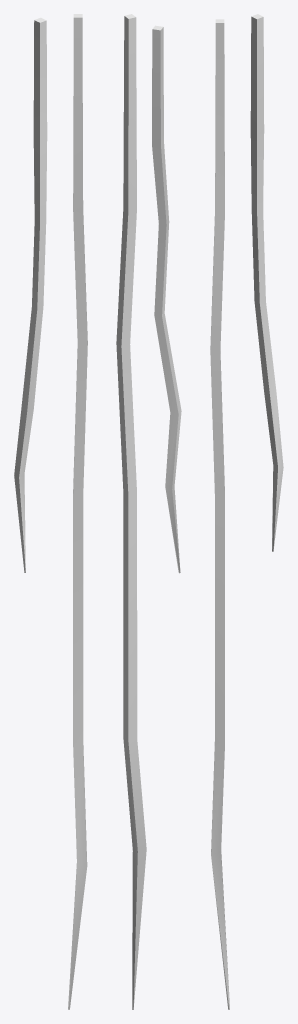
The model's file is SM_Tree_Vines_03.glb.
3 views of the same model, side by side, from view 1: azimuth 90°, elevation 25°; view 2: azimuth 210°, elevation 25°; view 3: azimuth 270°, elevation 25° (orthographic).
Visible parts, largest first — view 1: SM_Tree_Vines_03; view 2: SM_Tree_Vines_03; view 3: SM_Tree_Vines_03.
Part boxes in pixels (<box>): SM_Tree_Vines_03: <box>14,14,87,1009</box>; SM_Tree_Vines_03: <box>116,14,181,1009</box>; SM_Tree_Vines_03: <box>210,14,283,1009</box>.
Size of the model in its own units: 0.1881 by 5.09 by 0.3416.
Materials: 1 (1 with a texture image).
